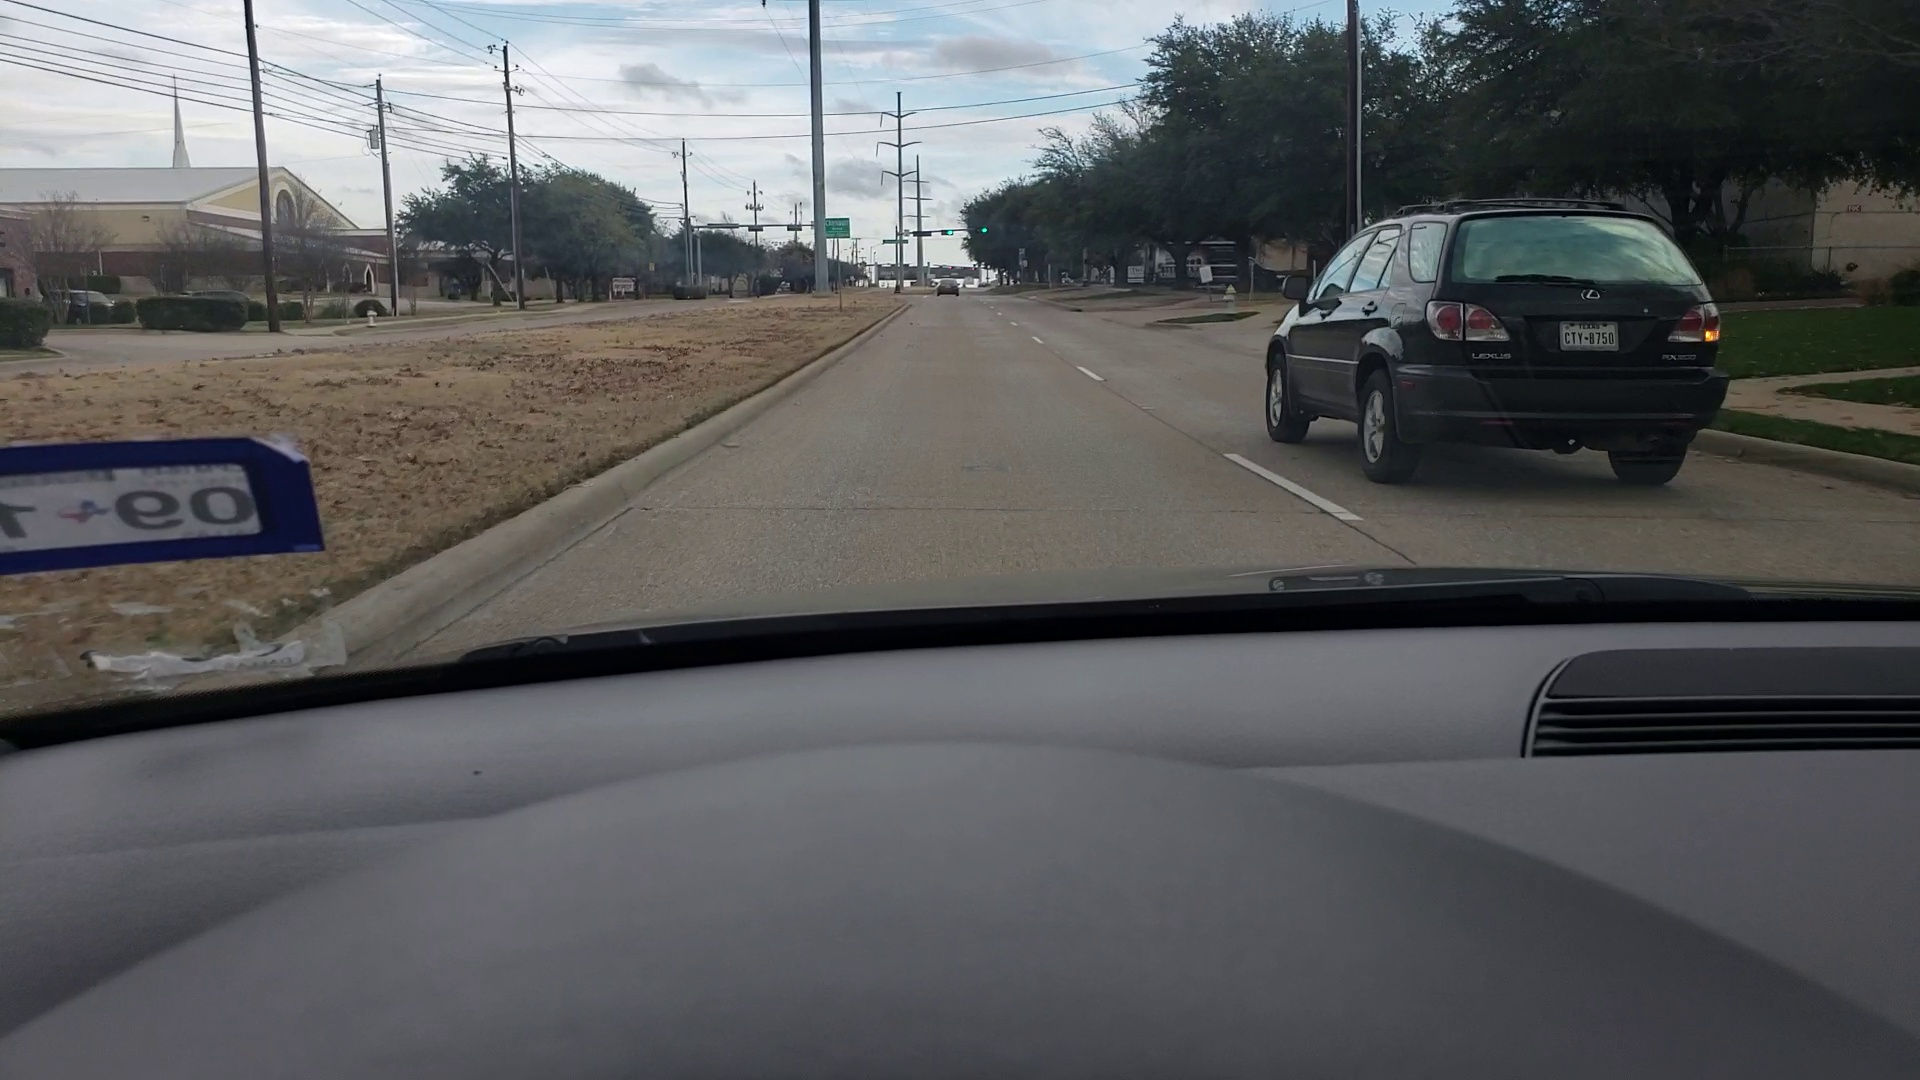car: (1244, 196, 1742, 487), (44, 284, 128, 327), (938, 280, 960, 295)
traffic light: (939, 227, 953, 236), (977, 225, 992, 233)
